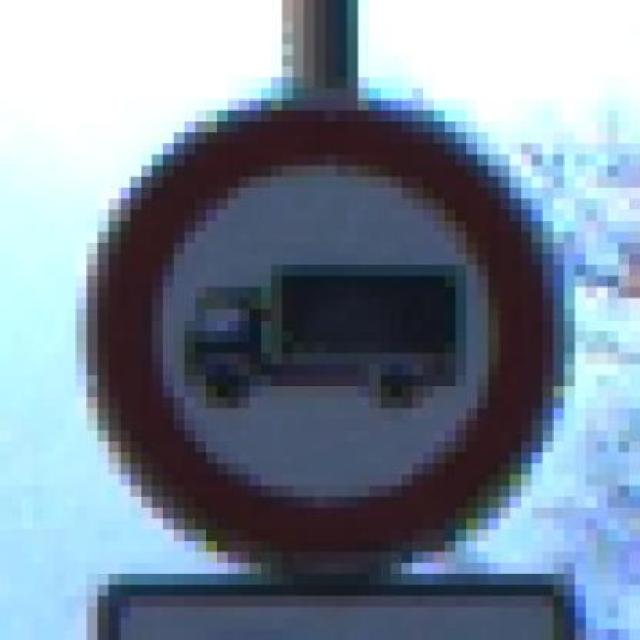Truck traffic is prohibited: (54, 77, 586, 574)
